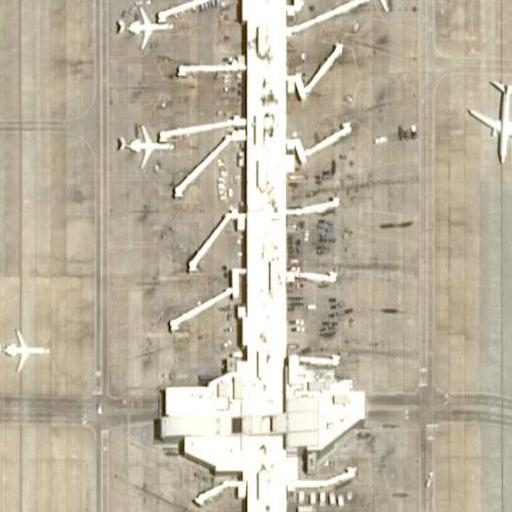Aircraft: (463, 73, 512, 167), (116, 116, 176, 170), (113, 0, 175, 51), (0, 323, 54, 372), (354, 0, 410, 15)
